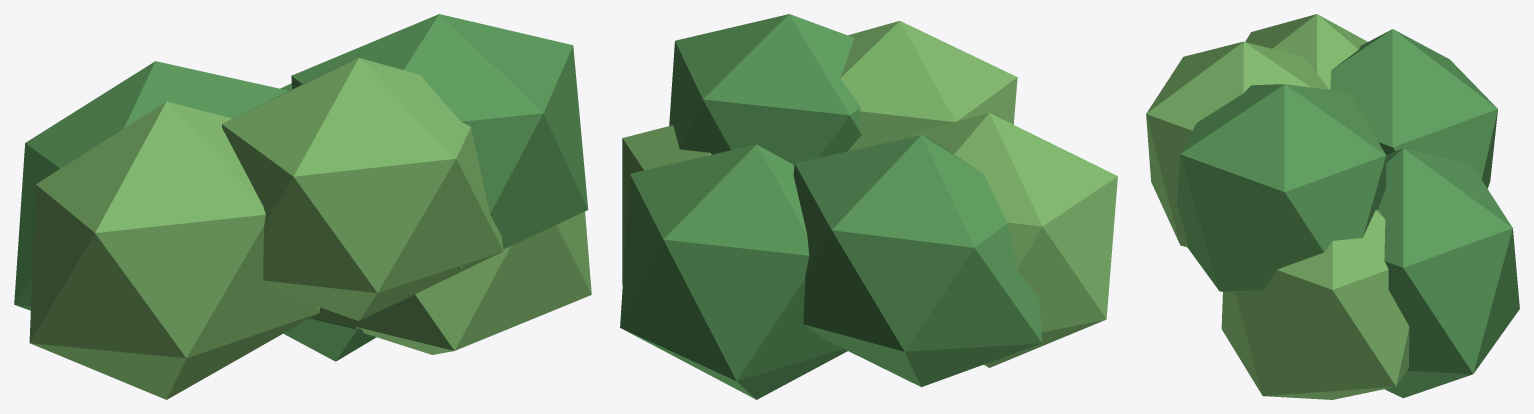
Rendered from bush_02.glb.
3 views of the same model, side by side, from view 1: azimuth 30°, elevation 25°; view 2: azimuth 150°, elevation 25°; view 3: azimuth 270°, elevation 25° (orthographic). The views are drawn at different scales.
Visible parts, largest first — view 1: Bush_02; view 2: Bush_02; view 3: Bush_02.
Boxes of the visible parts, x1,y1,x2,y2 form: Bush_02: (14, 14, 591, 399); Bush_02: (620, 14, 1117, 399); Bush_02: (1146, 14, 1519, 399).
Bounding box in the file's own units: 2.41 × 1.62 × 1.68.
